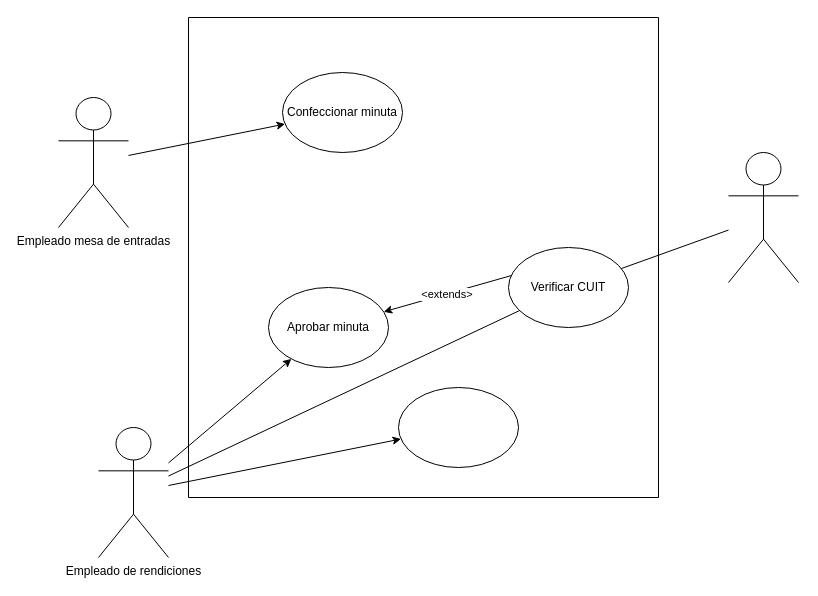
This 818x596 diagram has some shape labels left out. Each missing label, with the centre of its shape:
"Imprimir listado" goes at [458,427].
"Servidor AFIP" goes at [763,217].
